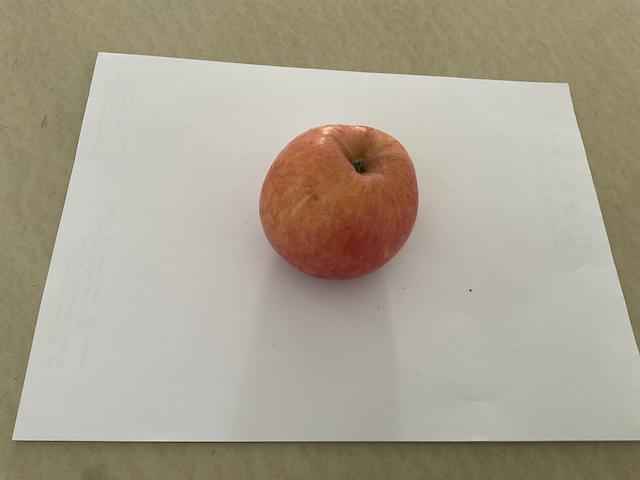apple: (255, 118, 423, 284)
